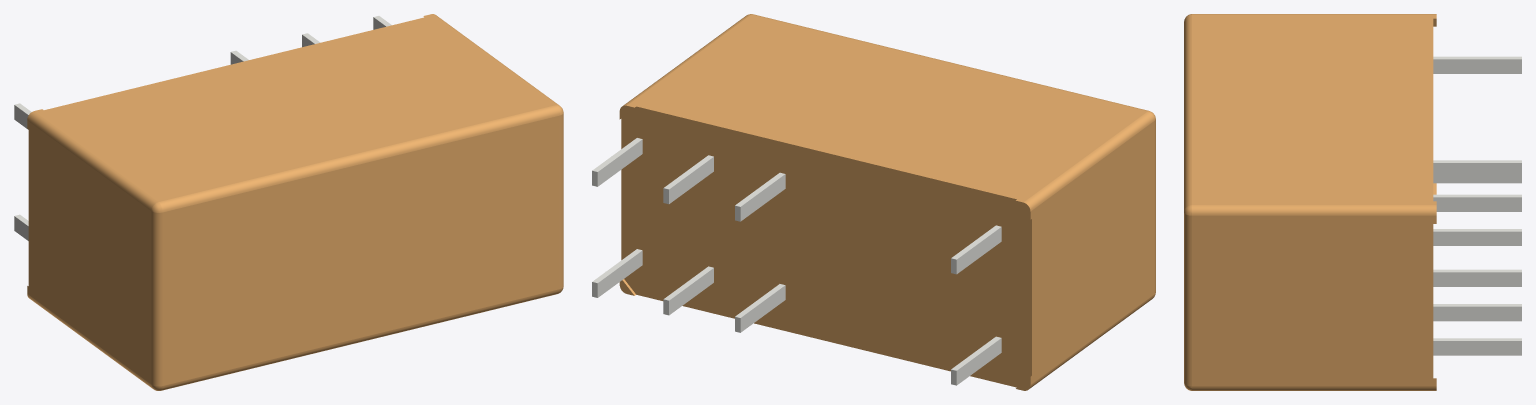
Rendered from Relay_DPDT_Schrack-RT2-FormC_RM5mm.glb.
The picture shows the model from 3 angles, left to right: view 1: azimuth 30°, elevation 25°; view 2: azimuth 150°, elevation 25°; view 3: azimuth 270°, elevation 25°; orthographic projection.
Parts seen in each view (by area): view 1: Shape_IndexedFaceSet.062, Shape_IndexedFaceSet.011, Shape_IndexedFaceSet.007, Shape_IndexedFaceSet.052, Shape_IndexedFaceSet.045, Shape_IndexedFaceSet.047, Shape_IndexedFaceSet.044, Shape_IndexedFaceSet.053, Shape_IndexedFaceSet.046; view 2: Shape_IndexedFaceSet.005, Shape_IndexedFaceSet.011, Shape_IndexedFaceSet.007, Shape_IndexedFaceSet.044, Shape_IndexedFaceSet.001, Shape_IndexedFaceSet.014, Shape_IndexedFaceSet.022, Shape_IndexedFaceSet.026, Shape_IndexedFaceSet.034, Shape_IndexedFaceSet.018, Shape_IndexedFaceSet.030, Shape_IndexedFaceSet.038 (+2 smaller); view 3: Shape_IndexedFaceSet.011, Shape_IndexedFaceSet.012, Shape_IndexedFaceSet.051, Shape_IndexedFaceSet.052, Shape_IndexedFaceSet.040, Shape_IndexedFaceSet.053, Shape_IndexedFaceSet.003, Shape_IndexedFaceSet.020, Shape_IndexedFaceSet.024, Shape_IndexedFaceSet.028, Shape_IndexedFaceSet.036, Shape_IndexedFaceSet.032 (+5 smaller).
Boxes of the visible parts, x1,y1,x2,y2 form: Shape_IndexedFaceSet.062: (162,115,559,385); Shape_IndexedFaceSet.011: (34,14,554,201); Shape_IndexedFaceSet.007: (27,120,151,384); Shape_IndexedFaceSet.052: (159,105,559,212); Shape_IndexedFaceSet.045: (151,211,162,386); Shape_IndexedFaceSet.047: (161,289,559,390); Shape_IndexedFaceSet.044: (27,111,157,210); Shape_IndexedFaceSet.053: (559,113,563,288); Shape_IndexedFaceSet.046: (27,294,152,388); Shape_IndexedFaceSet.005: (621,106,1031,387); Shape_IndexedFaceSet.011: (627,15,1147,202); Shape_IndexedFaceSet.007: (1030,121,1154,384); Shape_IndexedFaceSet.044: (1023,111,1154,211); Shape_IndexedFaceSet.001: (597,139,642,186); Shape_IndexedFaceSet.014: (956,338,1001,385); Shape_IndexedFaceSet.022: (740,174,785,221); Shape_IndexedFaceSet.026: (740,285,785,332); Shape_IndexedFaceSet.034: (597,250,642,297); Shape_IndexedFaceSet.018: (956,227,1001,273); Shape_IndexedFaceSet.030: (669,157,713,203); Shape_IndexedFaceSet.038: (669,268,713,315); Shape_IndexedFaceSet.011: (1192,14,1436,204); Shape_IndexedFaceSet.012: (1192,215,1436,386); Shape_IndexedFaceSet.051: (1192,205,1436,215); Shape_IndexedFaceSet.052: (1184,14,1191,211); Shape_IndexedFaceSet.040: (1433,306,1521,321); Shape_IndexedFaceSet.053: (1184,213,1191,386); Shape_IndexedFaceSet.003: (1433,231,1521,245); Shape_IndexedFaceSet.020: (1433,59,1521,73); Shape_IndexedFaceSet.024: (1433,163,1521,177); Shape_IndexedFaceSet.028: (1433,272,1521,286); Shape_IndexedFaceSet.036: (1433,341,1521,355); Shape_IndexedFaceSet.032: (1433,197,1521,211).
Size of the model in its own units: 11.42 by 5 by 8.27.
